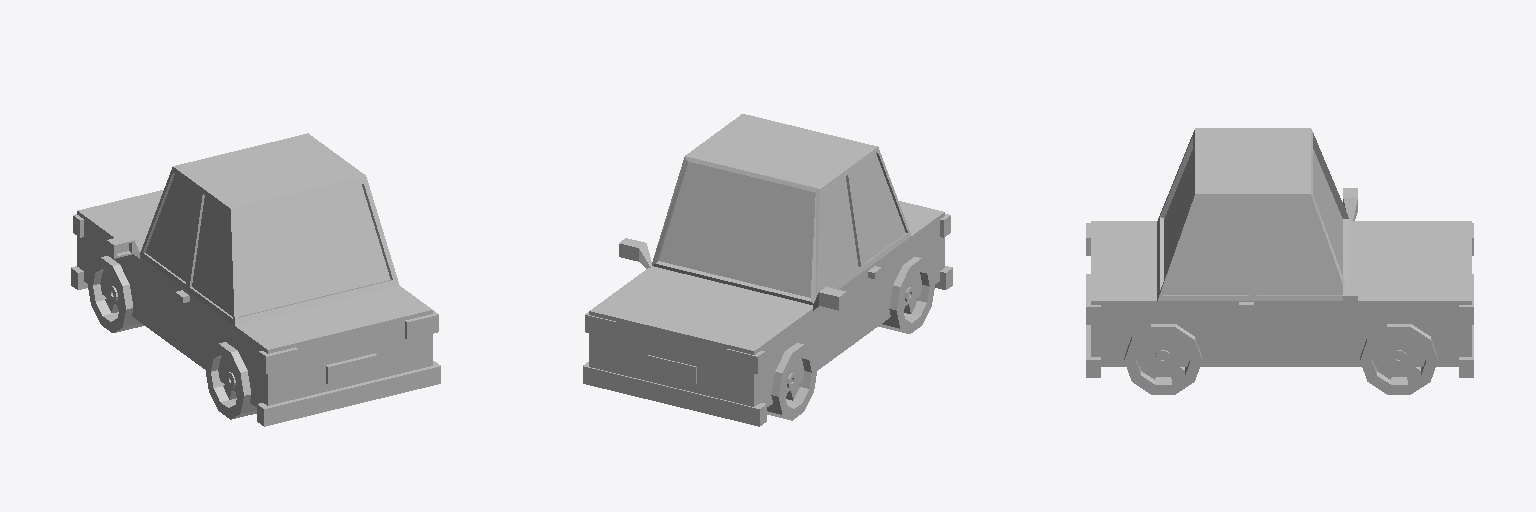
File: low_poly_car.obj
The picture shows the model from 3 angles: view 1: azimuth 30°, elevation 25°; view 2: azimuth 150°, elevation 25°; view 3: azimuth 270°, elevation 25°; orthographic projection.
Visible parts, largest first — view 1: Cube; view 2: Cube; view 3: Cube.
Boxes of the visible parts, <box> form: Cube: <box>71,133,440,426</box>; Cube: <box>583,114,952,426</box>; Cube: <box>1086,128,1473,394</box>.
Size of the model in its own units: 2.68 by 2.2 by 4.07.